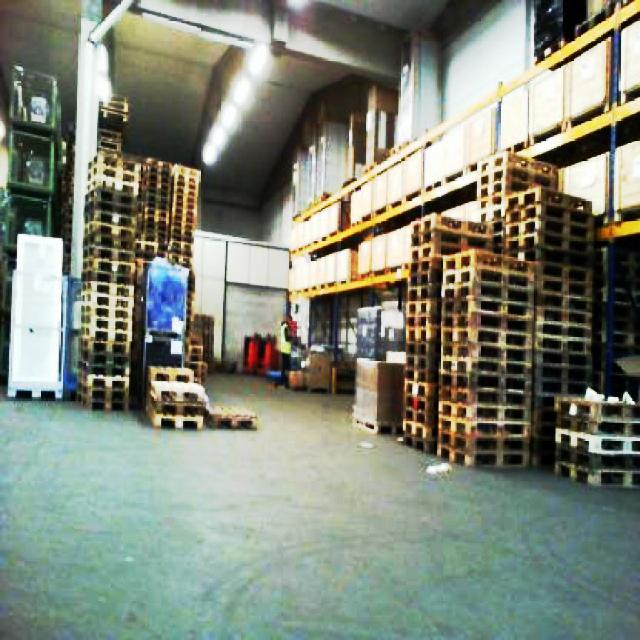ground: (0, 366, 638, 638)
pallet: (285, 0, 638, 498), (71, 95, 200, 412), (434, 246, 535, 468), (74, 149, 138, 411), (551, 391, 638, 489), (143, 363, 208, 429), (206, 405, 257, 429)
